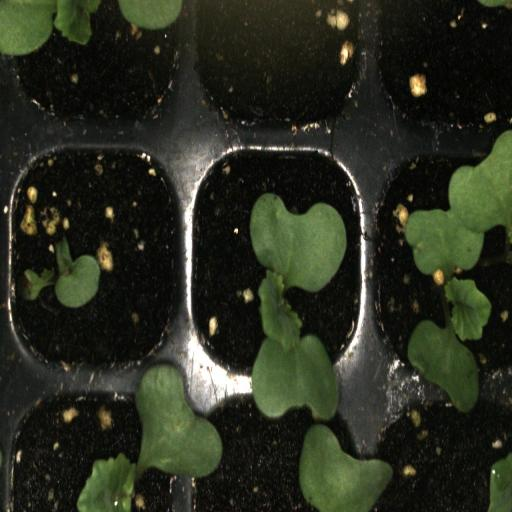seedling: (188, 134, 374, 380), (3, 381, 189, 512)
twoseedling: (373, 136, 512, 382)
weak: (4, 136, 188, 386)
